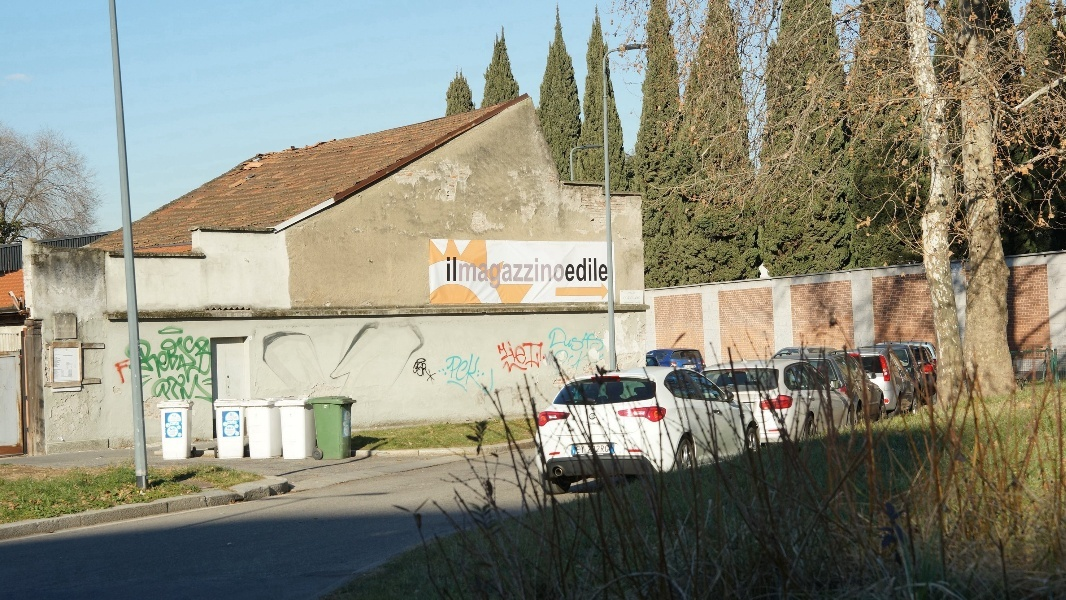text: (145, 326, 160, 402), (161, 326, 176, 402), (177, 326, 192, 402), (193, 326, 208, 402), (209, 326, 217, 402), (449, 352, 464, 390), (465, 352, 480, 390), (449, 257, 464, 290), (465, 257, 480, 290), (481, 257, 496, 290), (497, 257, 512, 290), (513, 257, 528, 290), (529, 257, 544, 290), (545, 257, 560, 290), (561, 257, 576, 290), (577, 257, 592, 290), (593, 257, 608, 290), (561, 326, 576, 354), (577, 326, 592, 354), (114, 359, 128, 384), (513, 343, 528, 366), (593, 326, 605, 354), (140, 326, 144, 402), (550, 326, 560, 354), (417, 357, 428, 381), (625, 291, 640, 301), (577, 446, 592, 455), (593, 446, 608, 454), (446, 352, 448, 390), (481, 352, 483, 390), (446, 257, 448, 290), (609, 257, 610, 290), (588, 446, 592, 454), (529, 343, 530, 366), (622, 291, 624, 301), (641, 291, 643, 301), (609, 446, 610, 454)
